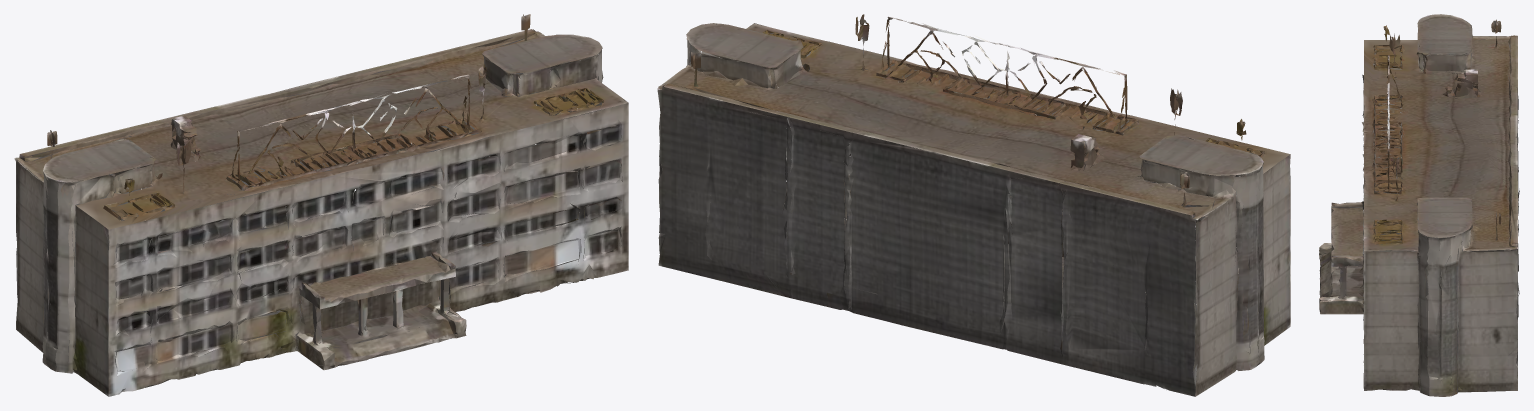
File: building_admin.glb
The picture shows the model from 3 angles, left to right: view 1: azimuth 30°, elevation 25°; view 2: azimuth 150°, elevation 25°; view 3: azimuth 270°, elevation 25°; orthographic projection. The views are drawn at different scales.
Parts seen in each view (by area): view 1: building_admin; view 2: building_admin; view 3: building_admin.
Part boxes in pixels (bbox=[...]): building_admin: bbox=[14, 14, 628, 396]; building_admin: bbox=[657, 14, 1290, 396]; building_admin: bbox=[1319, 14, 1519, 396].
Size of the model in its own units: 60 by 23.19 by 22.69.
1 material, 1 textured.
